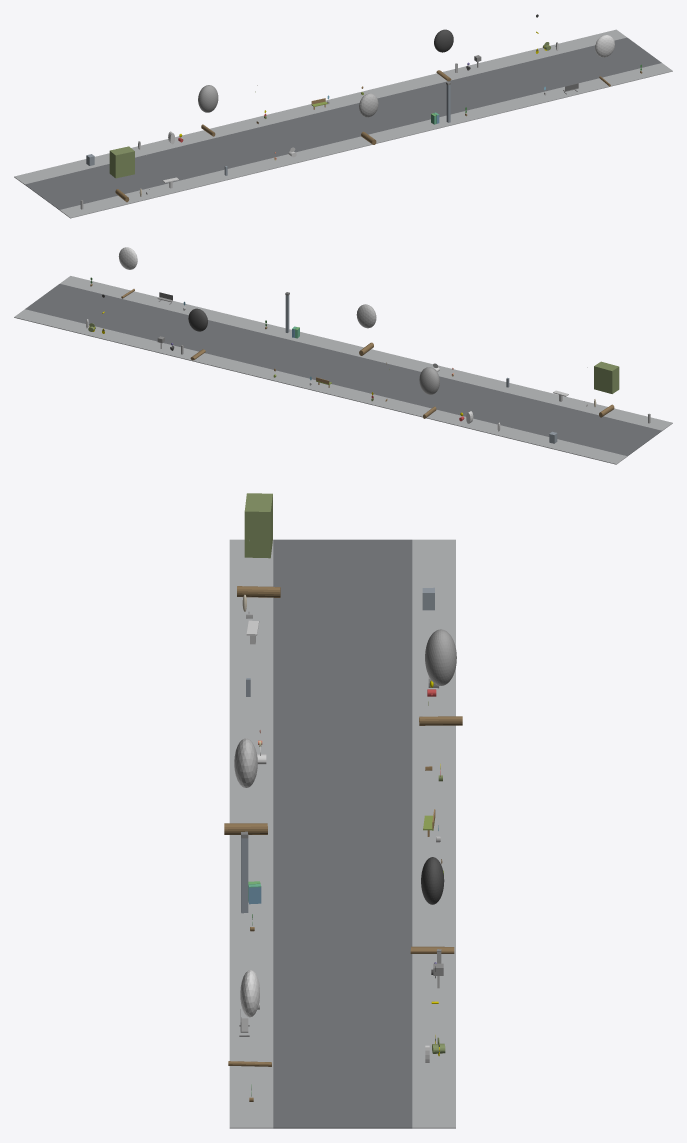
3 views of the same model, one above another, from view 1: azimuth 30°, elevation 25°; view 2: azimuth 150°, elevation 25°; view 3: azimuth 270°, elevation 25° (orthographic). The views are drawn at different scales.
Parts seen in each view (by area): view 1: road_slab, sidewalk_left, sidewalk_right, inst_0012, inst_0013, inst_0014, inst_0015, inst_0016; view 2: road_slab, sidewalk_right, sidewalk_left, inst_0012, inst_0013, inst_0014, inst_0015, inst_0016; view 3: road_slab, sidewalk_right, sidewalk_left, inst_0012, inst_0013, inst_0014, inst_0015, inst_0016.
Part boxes in pixels (box(x1,y1,x2,y2)): road_slab: box(25, 37, 661, 209); sidewalk_left: box(59, 63, 672, 218); sidewalk_right: box(14, 29, 626, 184); inst_0012: box(109, 146, 134, 202); inst_0013: box(198, 85, 218, 136); inst_0014: box(359, 93, 378, 144); inst_0015: box(434, 29, 453, 81); inst_0016: box(595, 35, 614, 86); road_slab: box(25, 284, 661, 456); sidewalk_right: box(14, 309, 627, 464); sidewalk_left: box(60, 276, 672, 430); inst_0012: box(594, 361, 619, 417); inst_0013: box(419, 367, 439, 418); inst_0014: box(356, 304, 376, 355); inst_0015: box(188, 308, 207, 360); inst_0016: box(118, 247, 137, 298); road_slab: box(273, 539, 412, 1128); sidewalk_right: box(412, 539, 455, 1128); sidewalk_left: box(229, 539, 273, 1128); inst_0012: box(237, 493, 280, 597); inst_0013: box(419, 629, 462, 725); inst_0014: box(224, 738, 267, 834); inst_0015: box(410, 857, 454, 953); inst_0016: box(228, 970, 271, 1066).
Size of the model in its own units: 80 by 6.08 by 13.71.
